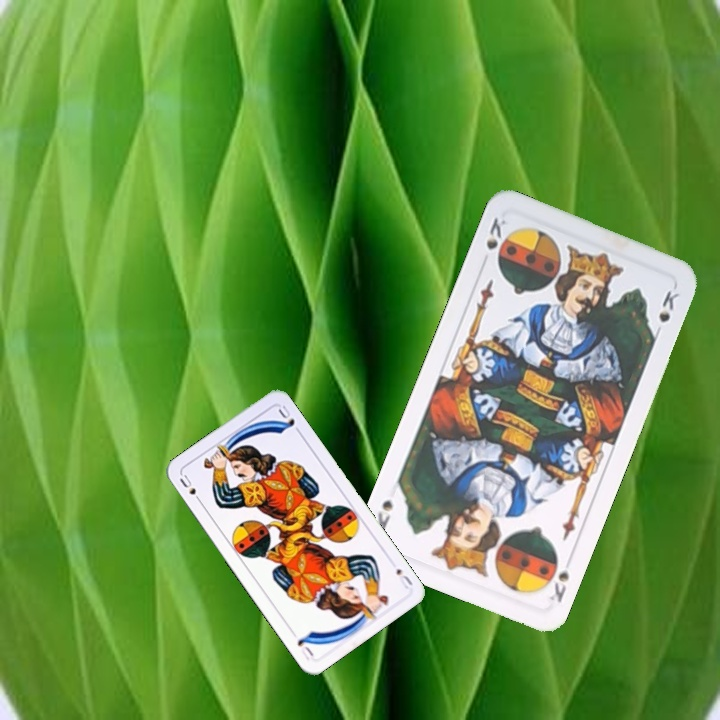SK: (545, 551, 573, 606), (482, 213, 510, 253)
SU: (175, 470, 205, 507), (392, 564, 415, 591)
